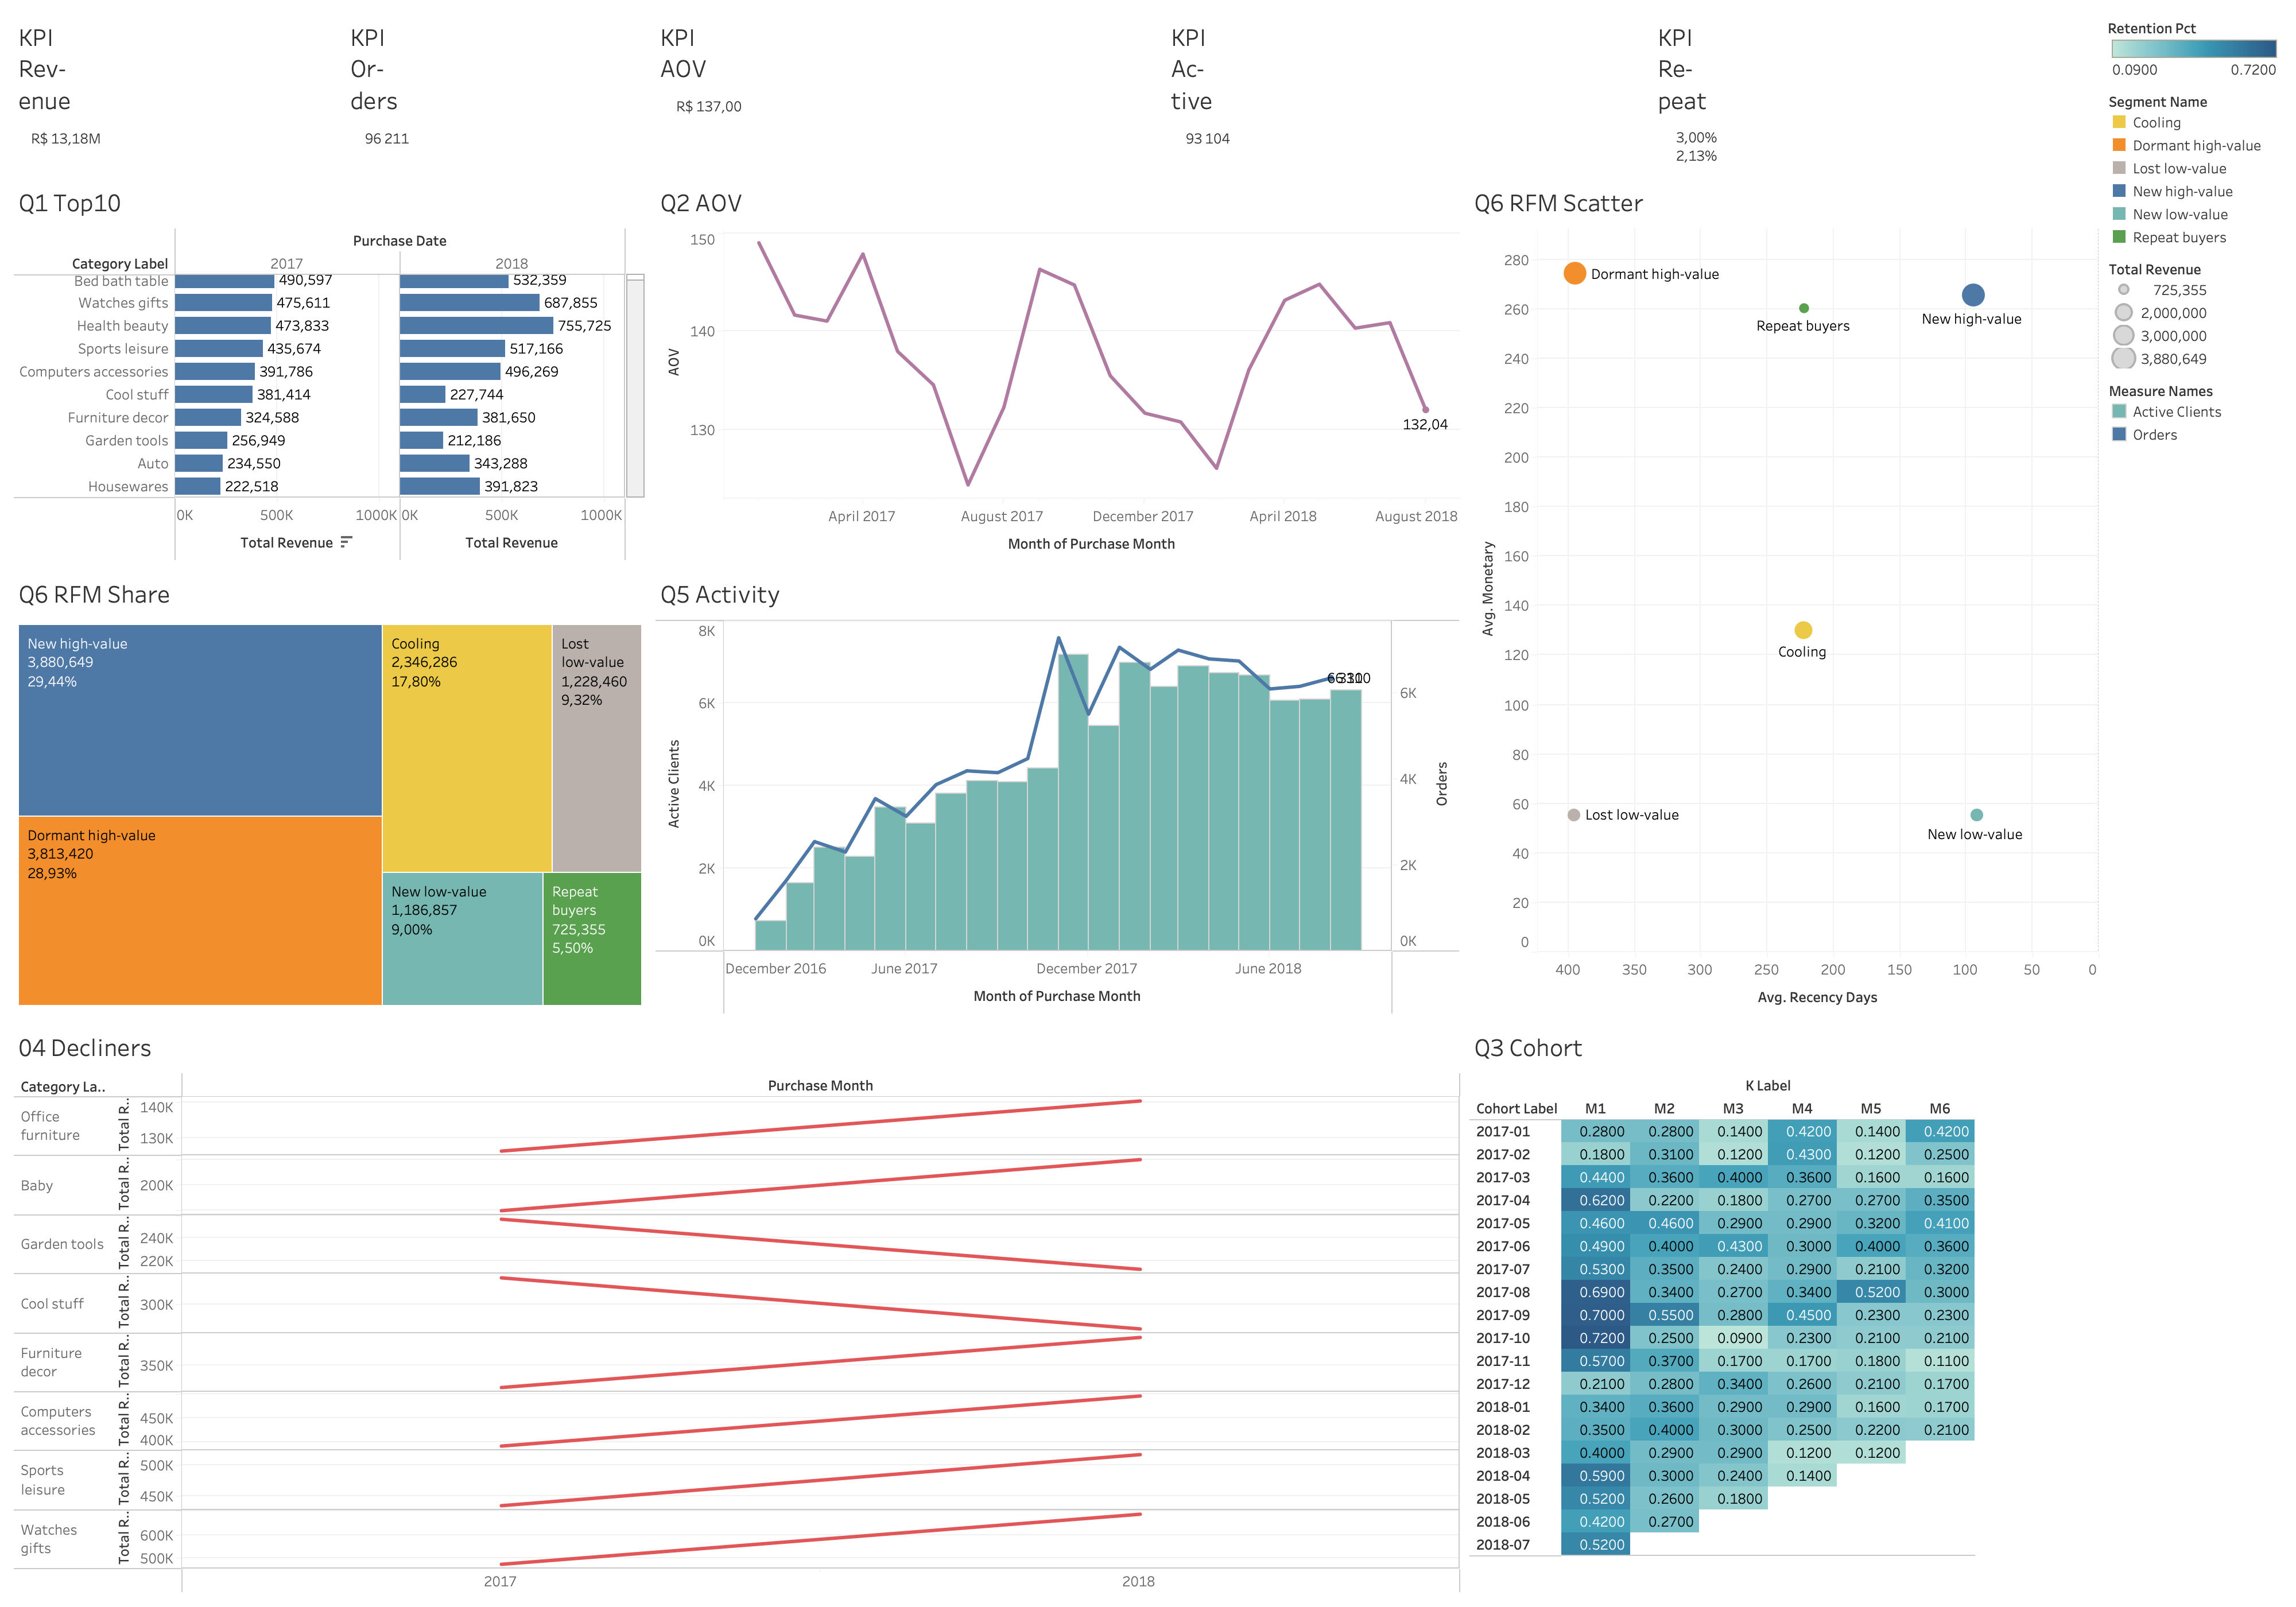

This screenshot's page, from the dashboard's own definition file:
{"tool":"tableau","page":{"name":"Dashboard 1","canvas":[2000,1400],"ordinal":0},"visuals":[{"type":"worksheet","title":"KPI Revenue","mark":"Text","box":[8,8,289,144]},{"type":"worksheet","title":"KPI Orders","mark":"Text","box":[297,8,270,144]},{"type":"worksheet","title":"KPI AOV","mark":"Text","box":[567,8,445,144]},{"type":"worksheet","title":"KPI Active","mark":"Text","box":[1012,8,423.8,144]},{"type":"worksheet","title":"KPI Repeat","mark":"Text","box":[1435.8,8,396.2,144]},{"type":"legend","title":"Q3 Cohort","param":"[federated.1acp89d0lsebij18k9m940etg50z].[sum:retention_pct:qk]","box":[1832,8,160,65]},{"type":"legend","title":"Q6 RFM Share","param":"[federated.0bggxig0zt6hnz134lou31x3jzl7].[none:segment_name:nk]","box":[1832,73,160,146]},{"type":"worksheet","title":"Q1 Top10","mark":"Bar","rows":["category_label"],"cols":["purchase_date","Calculation_3763075464257536"],"box":[8,152,559,341]},{"type":"worksheet","title":"Q2 AOV","mark":"Line","rows":["Calculation_3763075465031683"],"cols":["purchase_month"],"box":[567,152,709,341]},{"type":"worksheet","title":"Q6 RFM Scatter","mark":"Circle","rows":["monetary"],"cols":["recency_days"],"box":[1276,152,556,736]},{"type":"legend","title":"Q6 RFM Scatter","param":"[federated.0bggxig0zt6hnz134lou31x3jzl7].[usr:Calculation_3763075464257536:qk]","box":[1832,219,160,106]},{"type":"legend","title":"Q5 Activity","param":"[federated.0bggxig0zt6hnz134lou31x3jzl7].[:Measure Names]","box":[1832,325,160,66]},{"type":"worksheet","title":"Q6 RFM Share","mark":"Square","box":[8,493,559,395]},{"type":"worksheet","title":"Q5 Activity","mark":"Automatic","rows":["Calculation_3763075465117700","Calculation_3763075464884226"],"cols":["purchase_month"],"box":[567,493,709,395]},{"type":"worksheet","title":"04 Decliners","mark":"Line","rows":["category_label","Calculation_3763075464257536"],"cols":["purchase_month"],"box":[8,888,1268,504]},{"type":"worksheet","title":"Q3 Cohort","mark":"Square","rows":["cohort_label"],"cols":["k_label"],"box":[1276,888,556,504]}]}

Visuals, with their boxes in screenshot pixels (x1, y1, x2, y2), scaled from the page's 2000x1400 canvas onto the 2296x1607 screenshot:
"KPI Revenue" worksheet (Text marks): {"x1": 9, "y1": 9, "x2": 341, "y2": 174}
"KPI Orders" worksheet (Text marks): {"x1": 341, "y1": 9, "x2": 651, "y2": 174}
"KPI AOV" worksheet (Text marks): {"x1": 651, "y1": 9, "x2": 1162, "y2": 174}
"KPI Active" worksheet (Text marks): {"x1": 1162, "y1": 9, "x2": 1649, "y2": 174}
"KPI Repeat" worksheet (Text marks): {"x1": 1649, "y1": 9, "x2": 2103, "y2": 174}
"Q3 Cohort" legend: {"x1": 2103, "y1": 9, "x2": 2287, "y2": 84}
"Q6 RFM Share" legend: {"x1": 2103, "y1": 84, "x2": 2287, "y2": 251}
"Q1 Top10" worksheet (Bar marks): {"x1": 9, "y1": 174, "x2": 651, "y2": 566}
"Q2 AOV" worksheet (Line marks): {"x1": 651, "y1": 174, "x2": 1465, "y2": 566}
"Q6 RFM Scatter" worksheet (Circle marks): {"x1": 1465, "y1": 174, "x2": 2103, "y2": 1019}
"Q6 RFM Scatter" legend: {"x1": 2103, "y1": 251, "x2": 2287, "y2": 373}
"Q5 Activity" legend: {"x1": 2103, "y1": 373, "x2": 2287, "y2": 449}
"Q6 RFM Share" worksheet (Square marks): {"x1": 9, "y1": 566, "x2": 651, "y2": 1019}
"Q5 Activity" worksheet: {"x1": 651, "y1": 566, "x2": 1465, "y2": 1019}
"04 Decliners" worksheet (Line marks): {"x1": 9, "y1": 1019, "x2": 1465, "y2": 1598}
"Q3 Cohort" worksheet (Square marks): {"x1": 1465, "y1": 1019, "x2": 2103, "y2": 1598}
